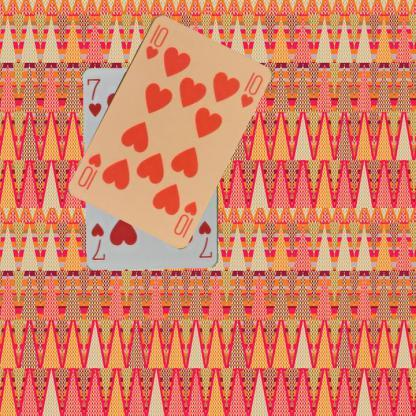10h: (143, 20, 170, 61), (170, 198, 198, 236)
7h: (85, 76, 103, 118), (196, 219, 214, 259)
